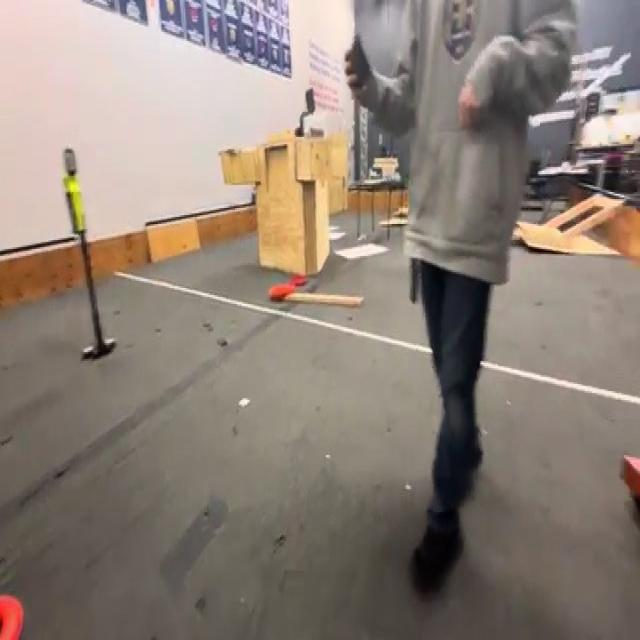note: (0, 588, 25, 640), (267, 279, 295, 302)
